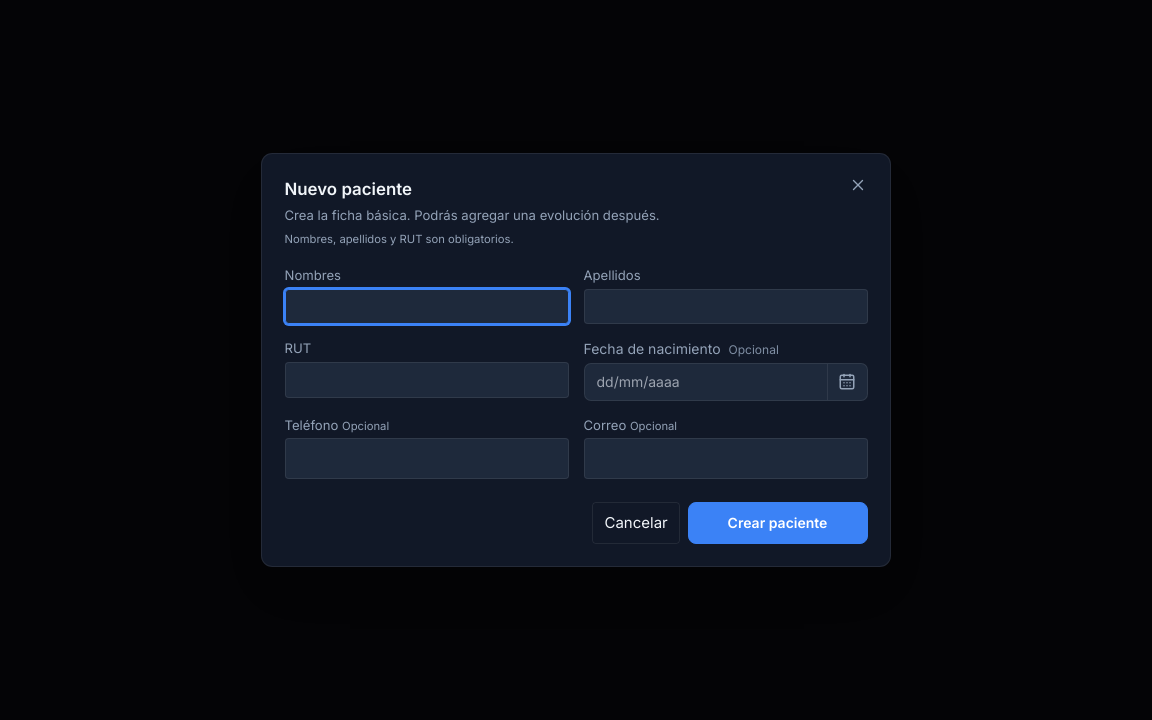
Test: PatientFormModal › shows one pending spinner and restores the action after failure
Type "Ana" into the field labelled "Nombres" at x=426, y=306, box [284,288,568,324]
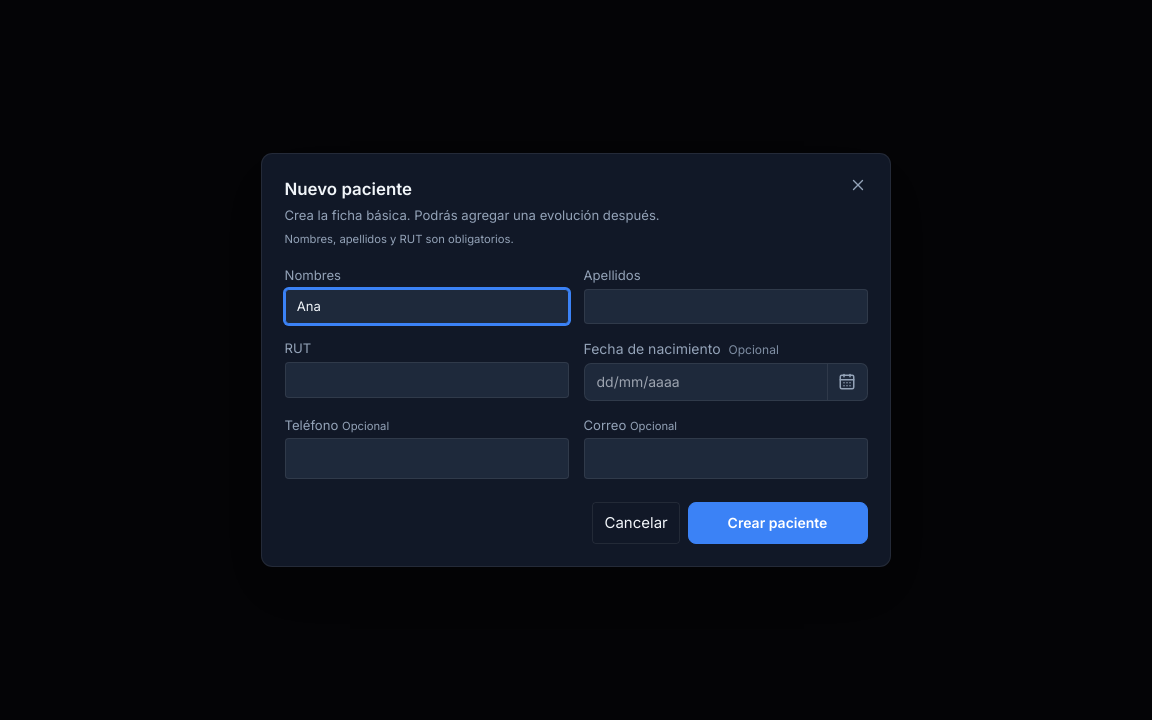
Type "Pérez" into the field labelled "Apellidos" at x=726, y=306, box [584,288,868,324]
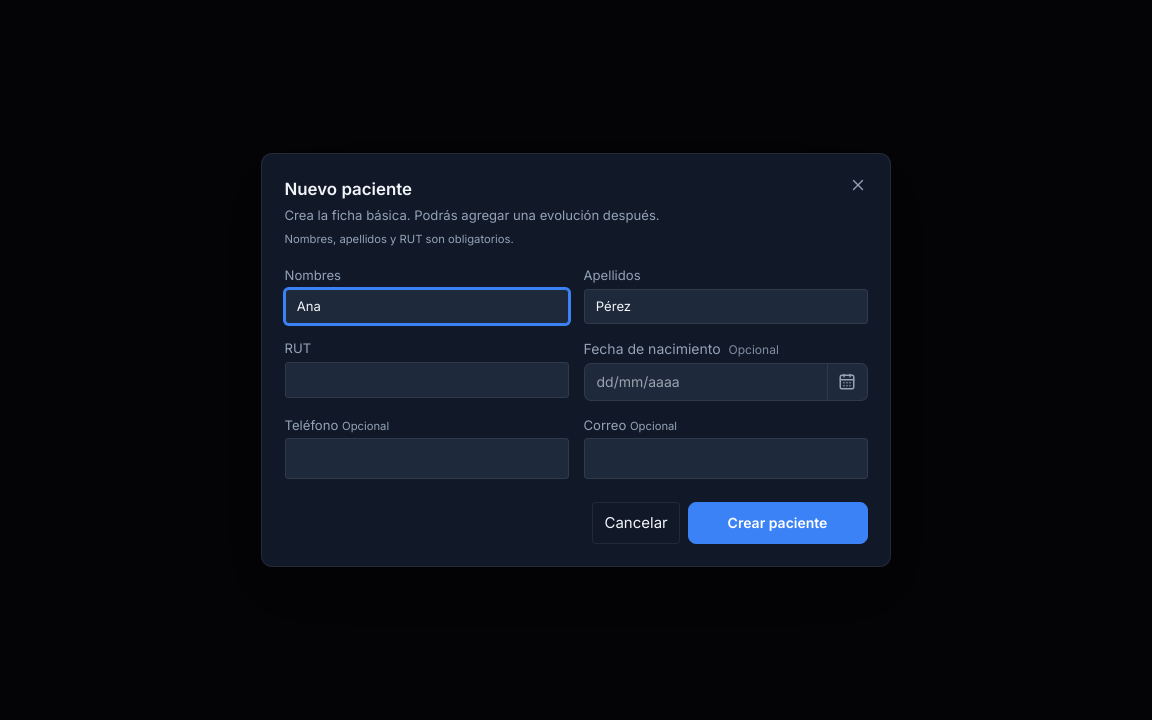
Type "12.345.678-5" into the field named "RUT" at x=426, y=380, box [284,362,568,398]
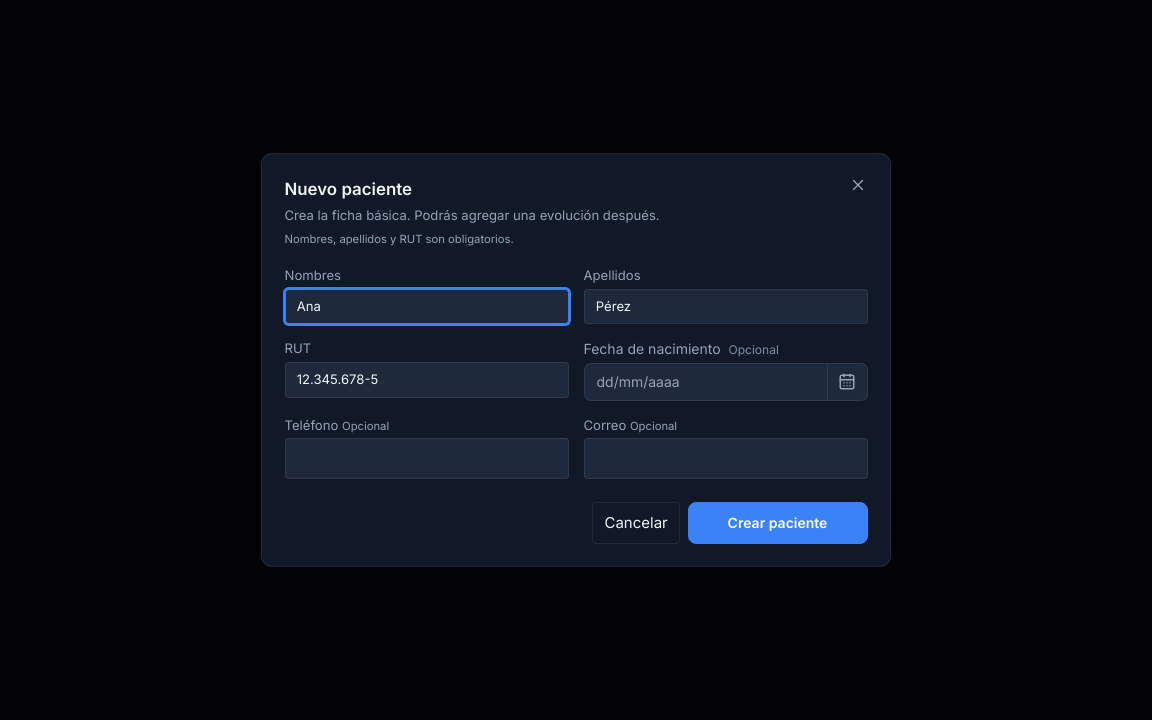
Click the button "Crear paciente" at x=778, y=523, box [688,502,868,544]
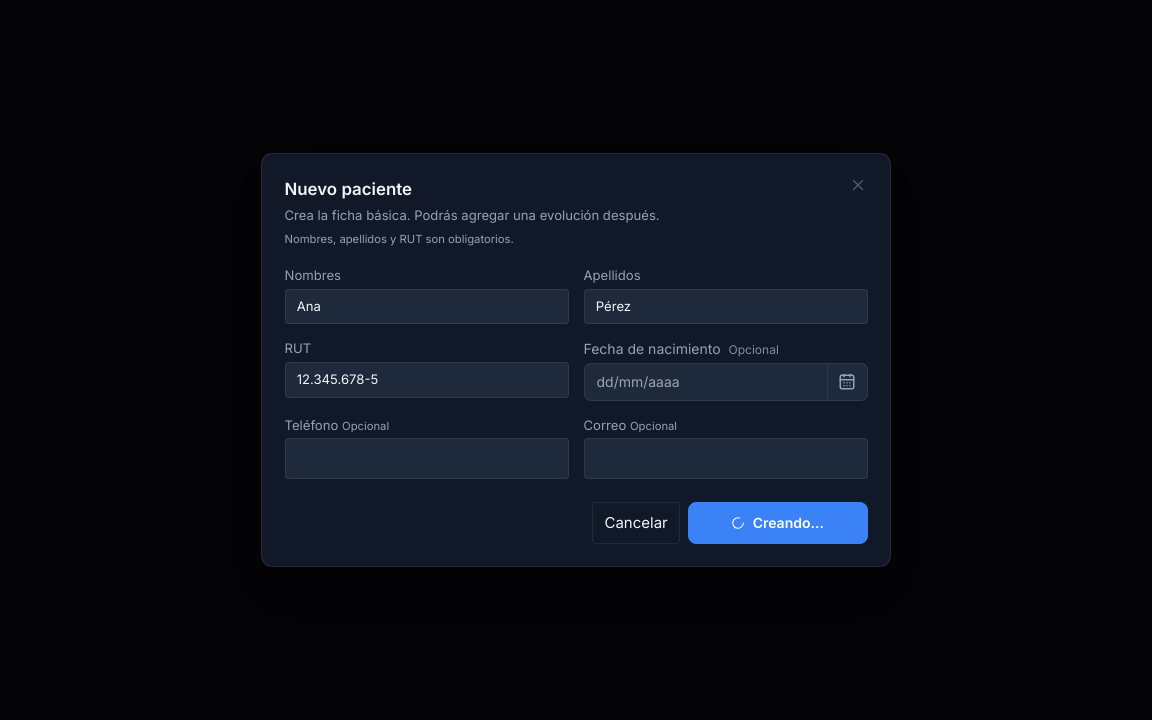
Now the button "Creando..." is disabled
Now the number of icons with class "animate-spin" is 1, box [731,516,745,530]
Click the button "Creando..." at x=778, y=523, box [688,502,868,544]
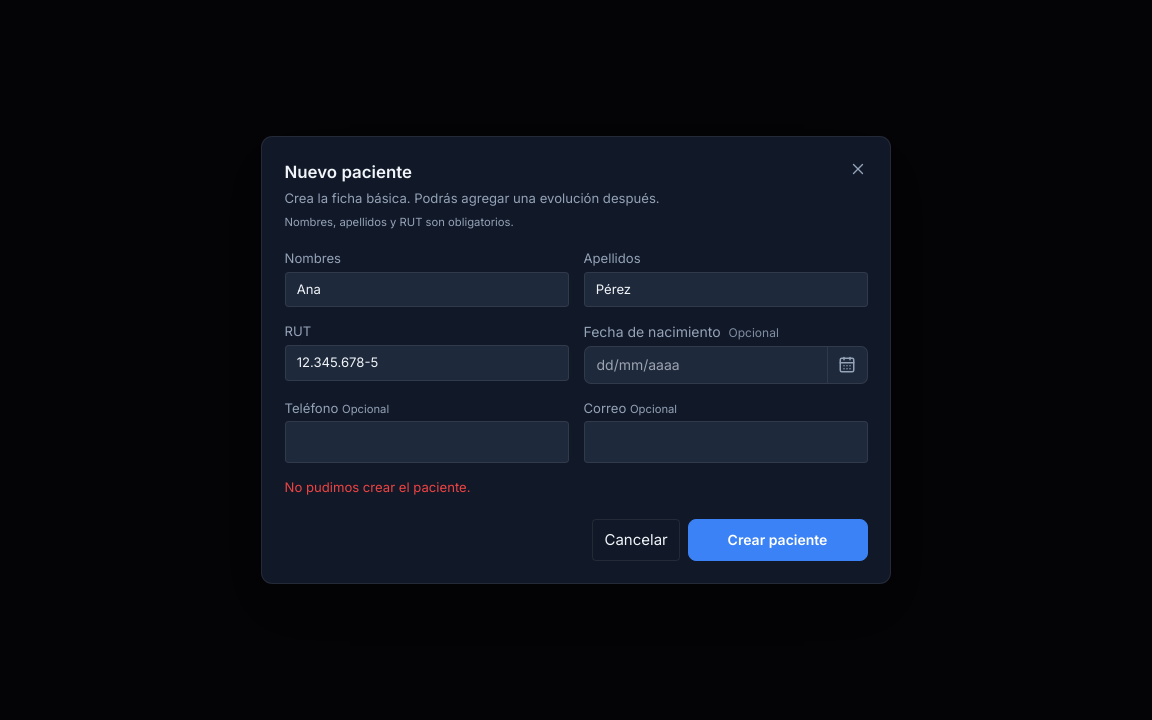
Now the button "Crear paciente" is enabled, box [688,519,868,561]
Now the icon with class "animate-spin" is gone
